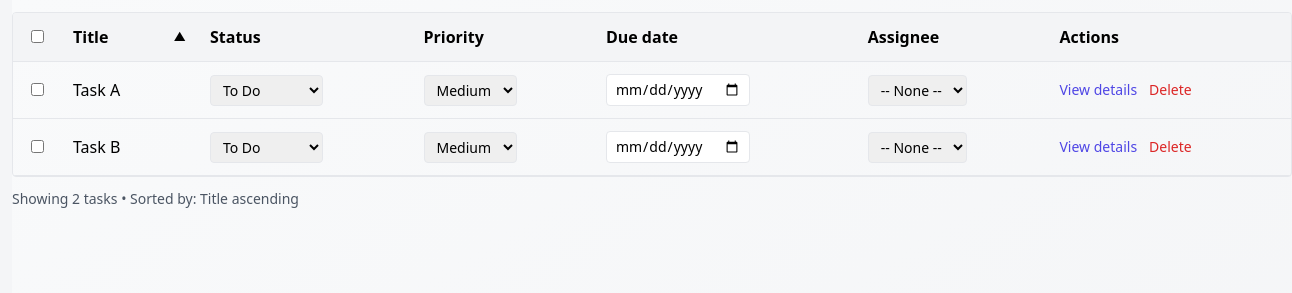
TaskTable selection safety › drops a selected task from selection once it disappears from the tasks prop
What coordinates should you click on to do the following:
click the checkbox with test id "select-a"
I would click on:
 (37, 90)
Its box is [30,83,44,96].
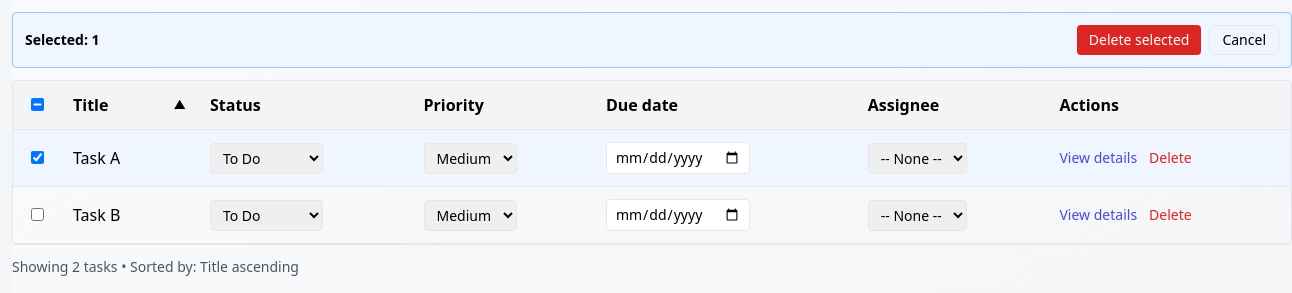
Check: the text with test id "selected-count" reads "1", box [92,30,100,49]
